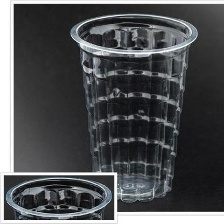glass: (63, 7, 202, 207), (4, 172, 113, 224)
